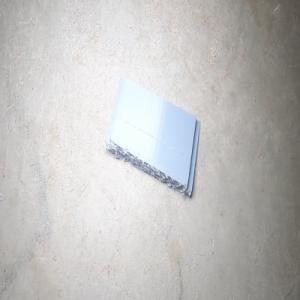PlasticPart: (103, 75, 200, 197)
